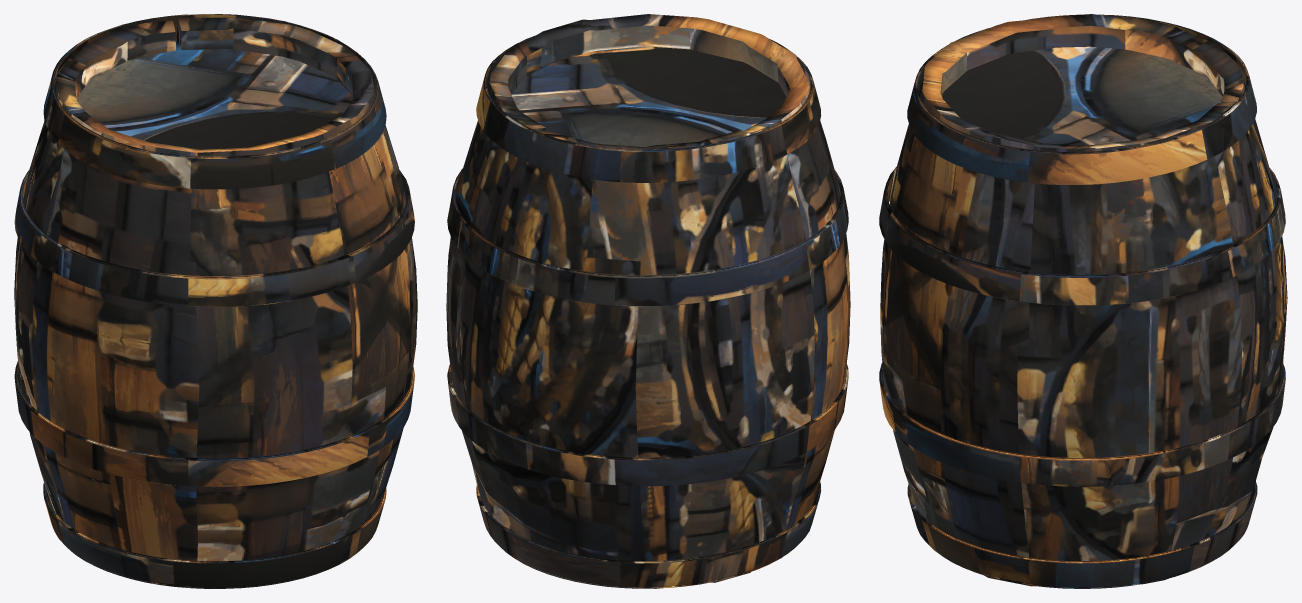
Rendered from barrel.fbx.
3 renders of one model, left to right at view 1: azimuth 30°, elevation 25°; view 2: azimuth 150°, elevation 25°; view 3: azimuth 270°, elevation 25°, orthographic.
Parts seen in each view (by area): view 1: tripo_57277b27_bec1_48c3_af40_464b340d27e5; view 2: tripo_57277b27_bec1_48c3_af40_464b340d27e5; view 3: tripo_57277b27_bec1_48c3_af40_464b340d27e5.
Part boxes in pixels (bbox=[...]): tripo_57277b27_bec1_48c3_af40_464b340d27e5: bbox=[14, 14, 417, 588]; tripo_57277b27_bec1_48c3_af40_464b340d27e5: bbox=[446, 14, 850, 588]; tripo_57277b27_bec1_48c3_af40_464b340d27e5: bbox=[879, 14, 1287, 588].
Bounding box in the file's own units: 0.8315 × 0.9995 × 0.8354.
